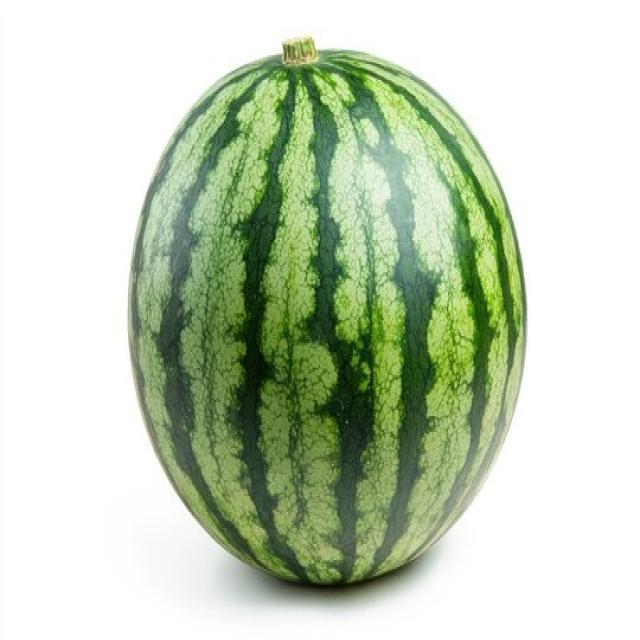Watermelon: (125, 33, 531, 588)
